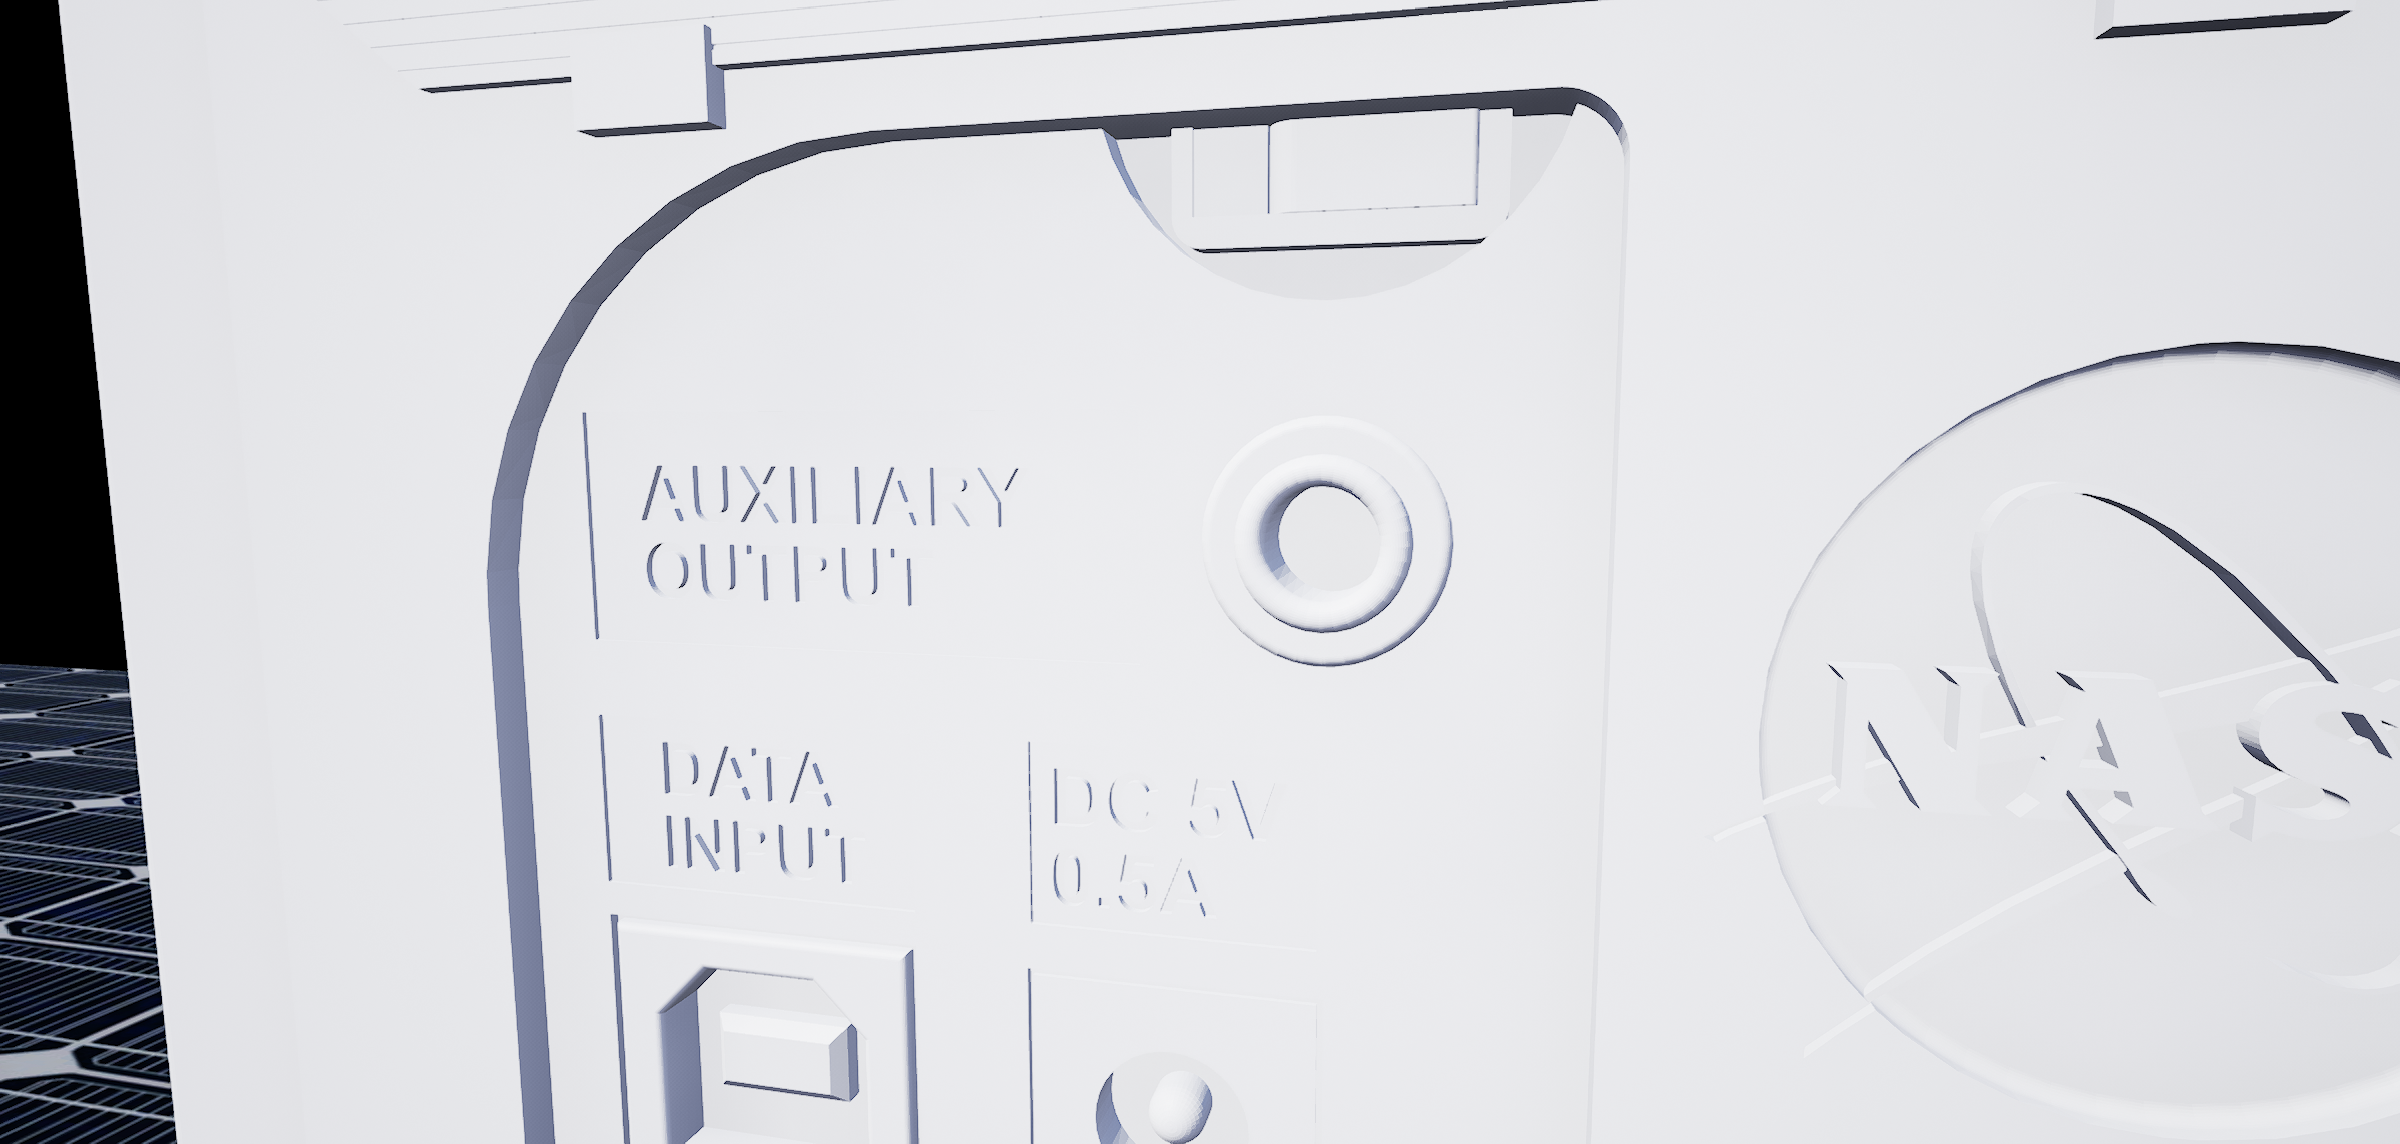aux: (1183, 403, 1476, 678)
dc: (1071, 1038, 1260, 1144)
usb: (647, 962, 877, 1144)
